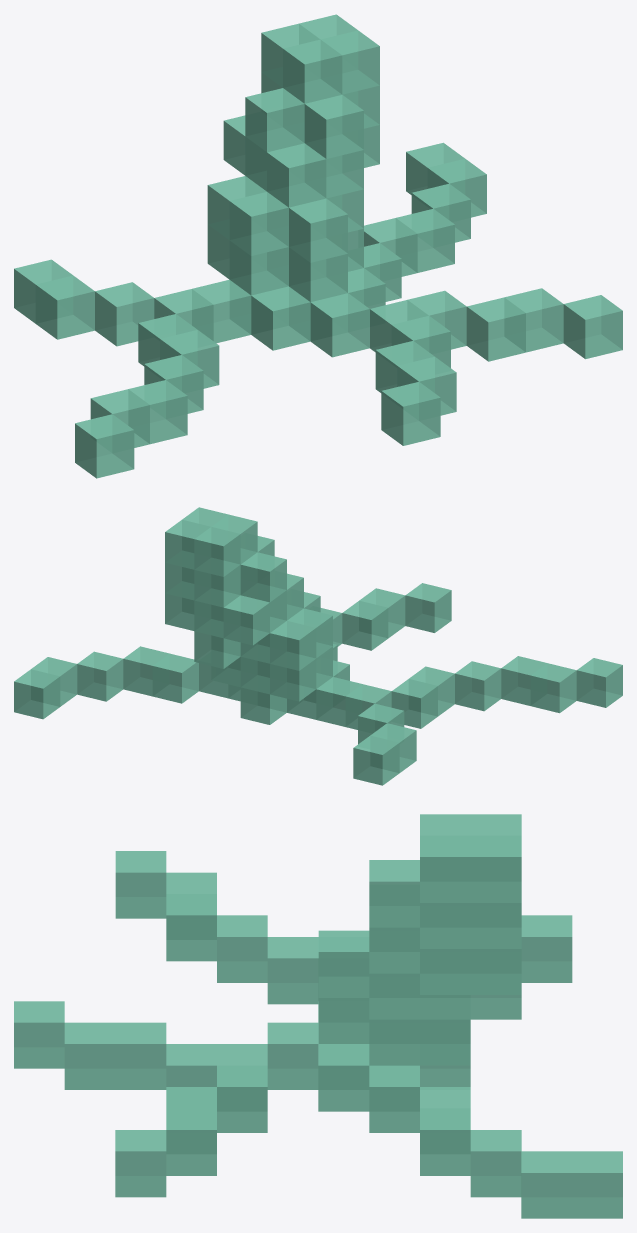
File: Crystal0003.fbx
The picture shows the model from 3 angles, top to bottom: view 1: azimuth 30°, elevation 25°; view 2: azimuth 150°, elevation 25°; view 3: azimuth 270°, elevation 25°; orthographic projection. The views are drawn at different scales.
Parts seen in each view (by area): view 1: Crystal; view 2: Crystal; view 3: Crystal.
Boxes of the visible parts, x1,y1,x2,y2 form: Crystal: (14, 14, 622, 478); Crystal: (14, 507, 622, 785); Crystal: (14, 814, 622, 1218).
Bounding box in the file's own units: 150 × 60 × 120.
